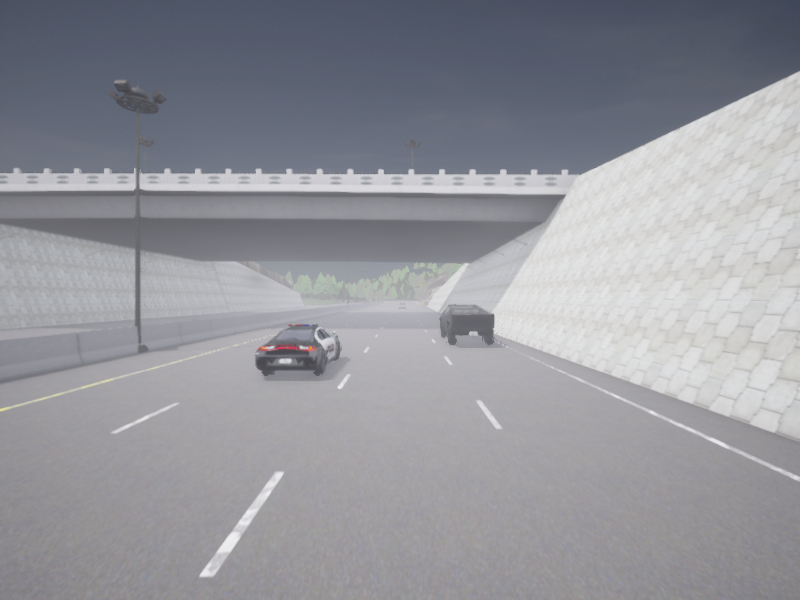vehicle: (255, 324, 339, 374), (439, 305, 493, 344), (399, 303, 405, 308)
